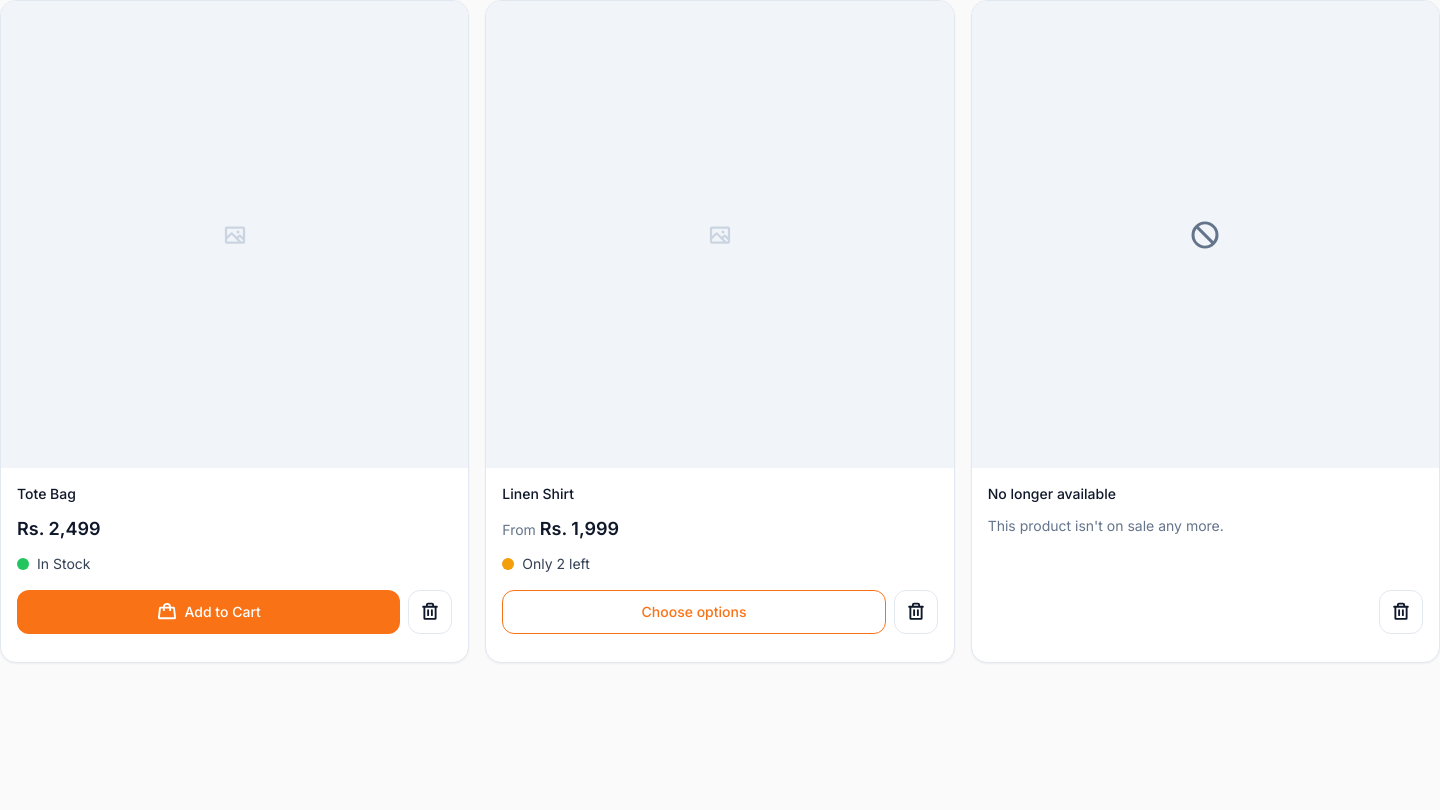
Scenario: WishlistGrid › adds a single-variant product to the cart
Click the button "Add to Cart" at [209, 612], box left=17, top=590, right=400, bottom=634
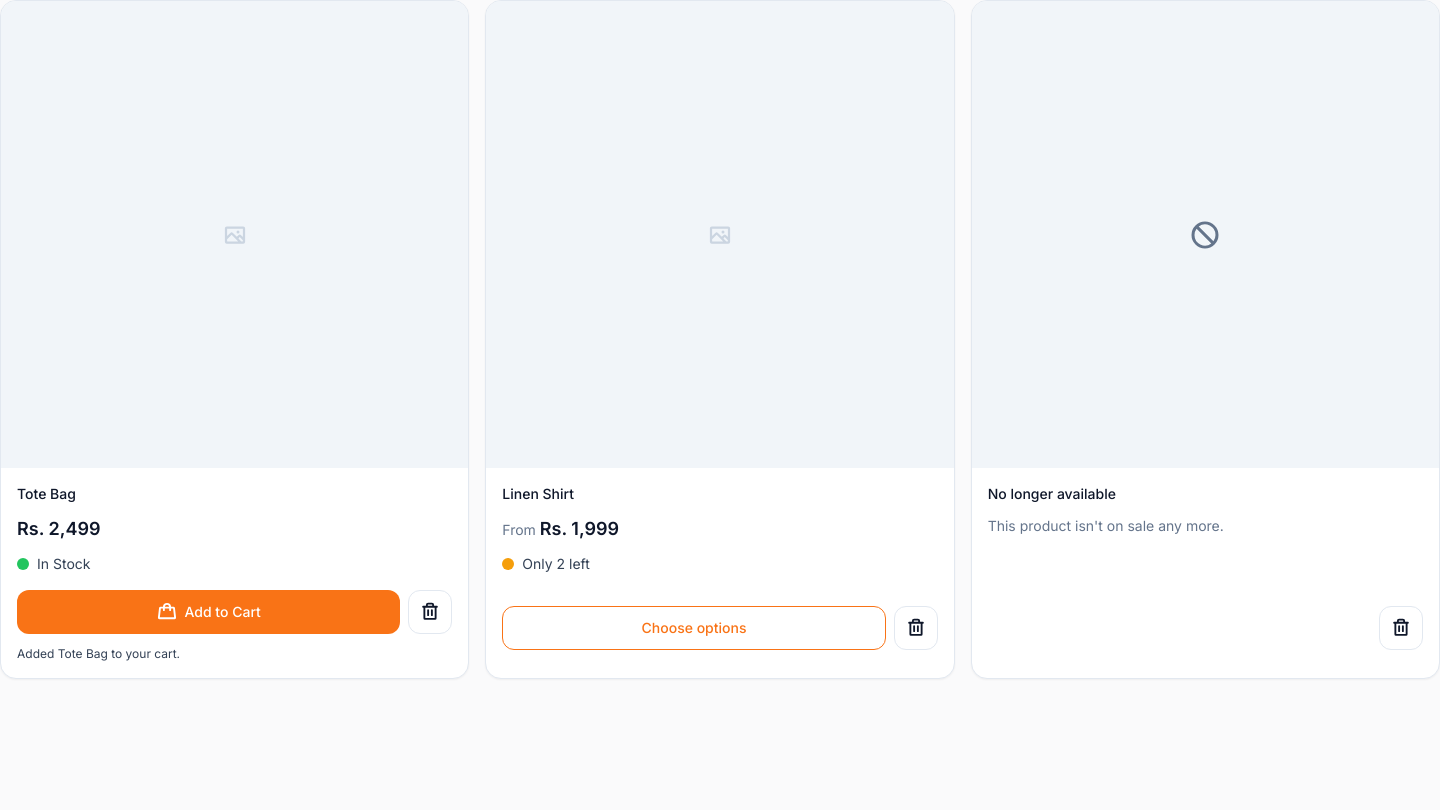
expect the text "Added Tote Bag to your cart." is shown: met, box left=17, top=646, right=180, bottom=661
